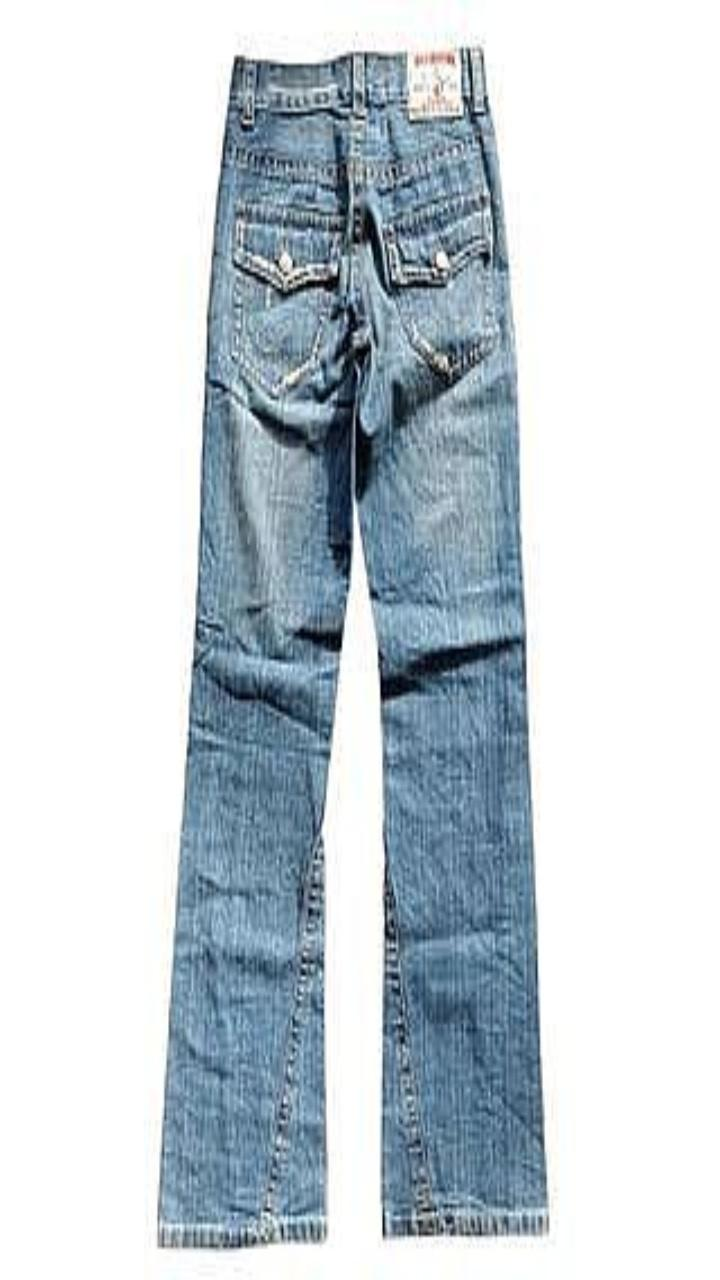Jeans: (158, 48, 547, 1245)
